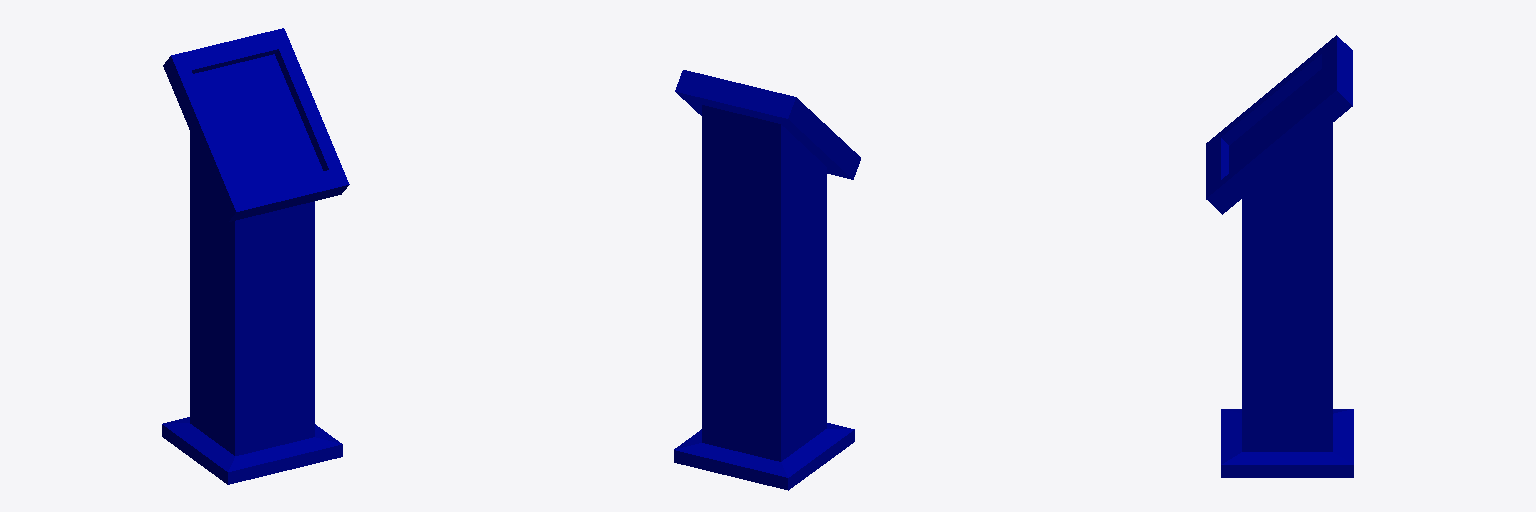
The model's file is Controls.obj.
3 views of the same model, side by side, from view 1: azimuth 30°, elevation 25°; view 2: azimuth 150°, elevation 25°; view 3: azimuth 270°, elevation 25° (orthographic).
Parts seen in each view (by area): view 1: Cube; view 2: Cube; view 3: Cube.
Part boxes in pixels (x1,y1,x2,y2): Cube: (162, 28, 349, 484); Cube: (674, 70, 860, 490); Cube: (1206, 35, 1353, 477).
Size of the model in its own units: 1.22 by 3.94 by 1.36.